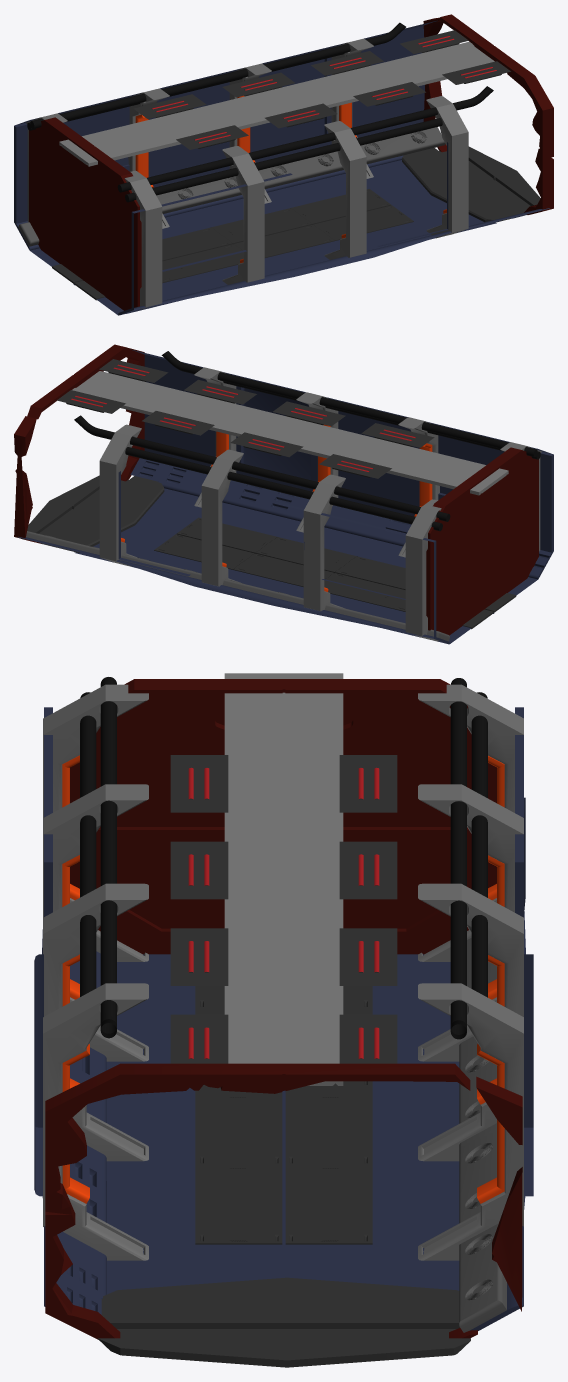
Rendered from SpaceBayColorAssigment.fbx.
3 renders of one model, top to bottom at view 1: azimuth 30°, elevation 25°; view 2: azimuth 150°, elevation 25°; view 3: azimuth 270°, elevation 25°, orthographic. The views are drawn at different scales.
Visible parts, largest first — view 1: Base, Bck door, Left pillars, ceiliing went, Base_Piece, Lights, front platforme, Went Base, Bck door.002, upper pipe, upper pipe.001, Lowwer pipe (+4 smaller); view 2: Base, Bck door, Right pillars, ceiliing went, Base_Piece, Lights, front platforme, Bck door.002, upper pipe.001, upper pipe, Lower pipe, Went Base (+3 smaller); view 3: Base, Bck door, ceiliing went, Base_Piece, front platforme, Lights, Left pillars, Right pillars, Bck door.002, Went Base, upper pipe, upper pipe.001 (+5 smaller).
Boxes of the visible parts, x1,y1,x2,y2 form: Base: (14, 20, 549, 315); Bck door: (29, 117, 141, 310); Left pillars: (124, 96, 468, 308); ceiliing went: (59, 41, 494, 166); Base_Piece: (52, 189, 413, 300); Lights: (133, 30, 510, 149); front platforme: (402, 146, 540, 222); Went Base: (18, 127, 445, 246); Bck door.002: (423, 14, 553, 214); upper pipe: (117, 86, 493, 192); upper pipe.001: (30, 22, 405, 128); Lowwer pipe: (125, 118, 442, 202); Base: (18, 349, 553, 644); Bck door: (426, 447, 538, 635); Right pillars: (99, 424, 441, 641); ceiliing went: (72, 371, 508, 495); Base_Piece: (154, 517, 516, 629); Lights: (57, 359, 434, 478); front platforme: (21, 475, 164, 552); Bck door.002: (14, 344, 144, 543); upper pipe.001: (74, 415, 450, 521); upper pipe: (161, 351, 537, 457); Lower pipe: (125, 447, 442, 531); Went Base: (26, 531, 449, 641); Base: (34, 707, 533, 1330); Bck door: (70, 679, 496, 954); ceiliing went: (224, 673, 343, 1085); Base_Piece: (195, 986, 372, 1244); front platforme: (97, 1277, 470, 1367); Lights: (170, 755, 397, 1063); Left pillars: (43, 684, 148, 1260); Right pillars: (418, 684, 523, 1260); Bck door.002: (45, 1063, 522, 1339); Went Base: (459, 938, 506, 1332); upper pipe: (100, 677, 116, 1038); upper pipe.001: (450, 678, 466, 1039).
Bounding box in the file's own units: 1067 × 322 × 520.
